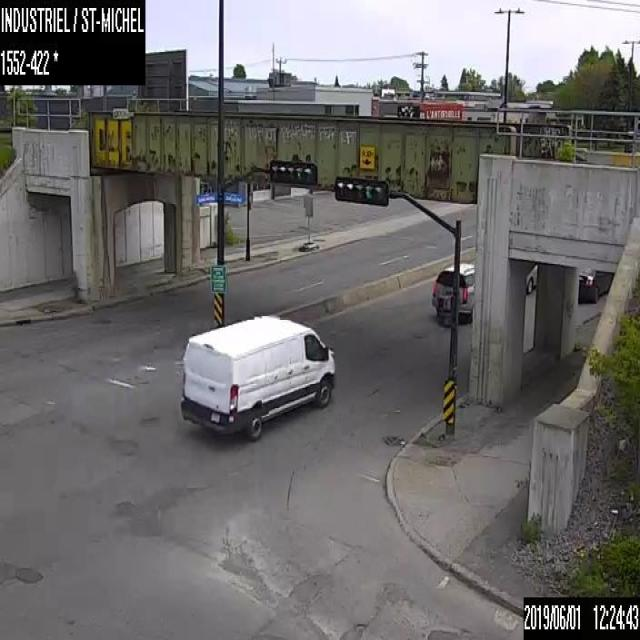vehicle: (179, 312, 335, 440), (430, 260, 475, 321), (576, 265, 614, 304), (523, 261, 538, 295)
